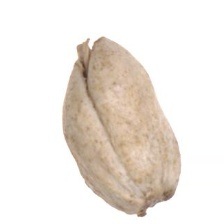L1: (73, 35, 104, 93), (139, 189, 177, 217)
L2: (62, 35, 180, 217)
